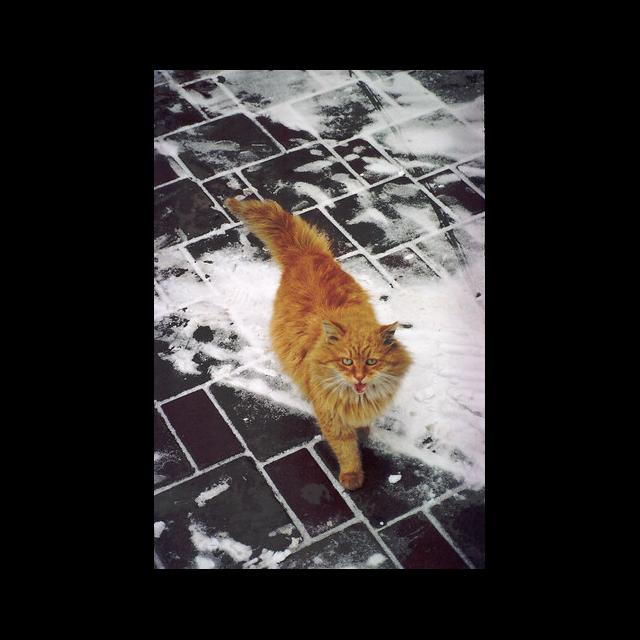animals: (227, 197, 412, 490)
